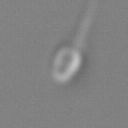normal: (71, 1, 103, 42)
